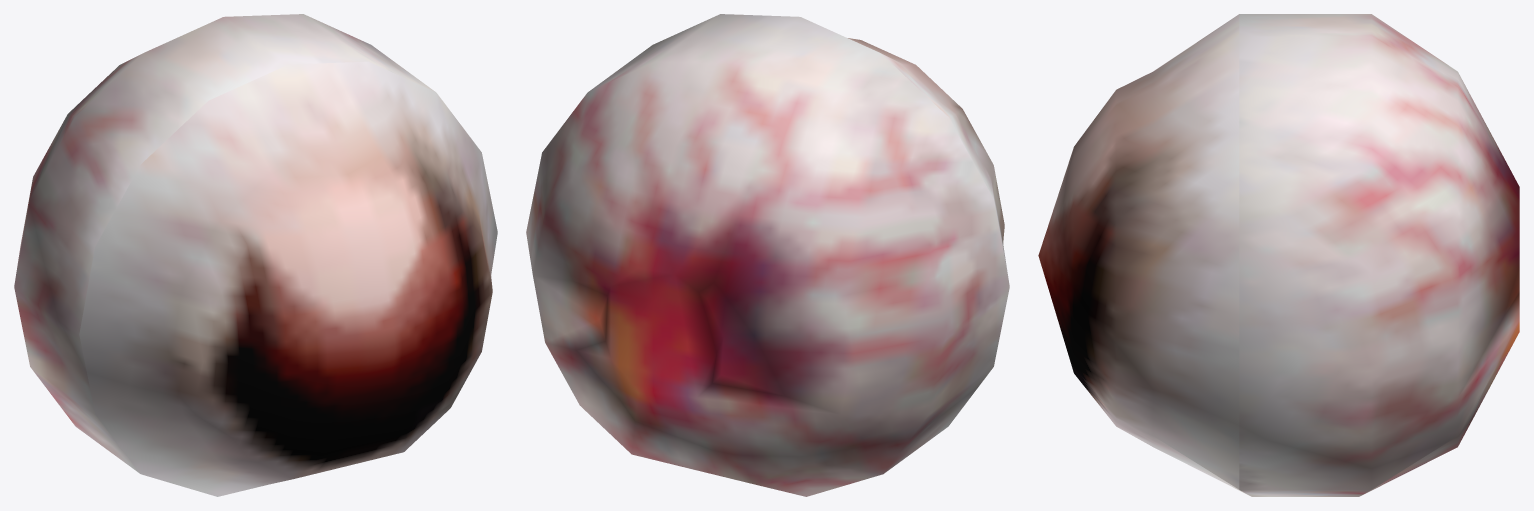
File: buzzer-lod0.glb
3 views of the same model, side by side, from view 1: azimuth 30°, elevation 25°; view 2: azimuth 150°, elevation 25°; view 3: azimuth 270°, elevation 25° (orthographic).
Parts seen in each view (by area): view 1: Mesh_0347.rip.013; view 2: Mesh_0347.rip.013; view 3: Mesh_0347.rip.013.
Part boxes in pixels (x1=…): Mesh_0347.rip.013: x1=14, y1=14, x2=497, y2=496; Mesh_0347.rip.013: x1=526, y1=14, x2=1009, y2=496; Mesh_0347.rip.013: x1=1038, y1=14, x2=1519, y2=496.
Size of the model in its own units: 1.11 by 1.07 by 1.09.
1 material, 1 textured.
